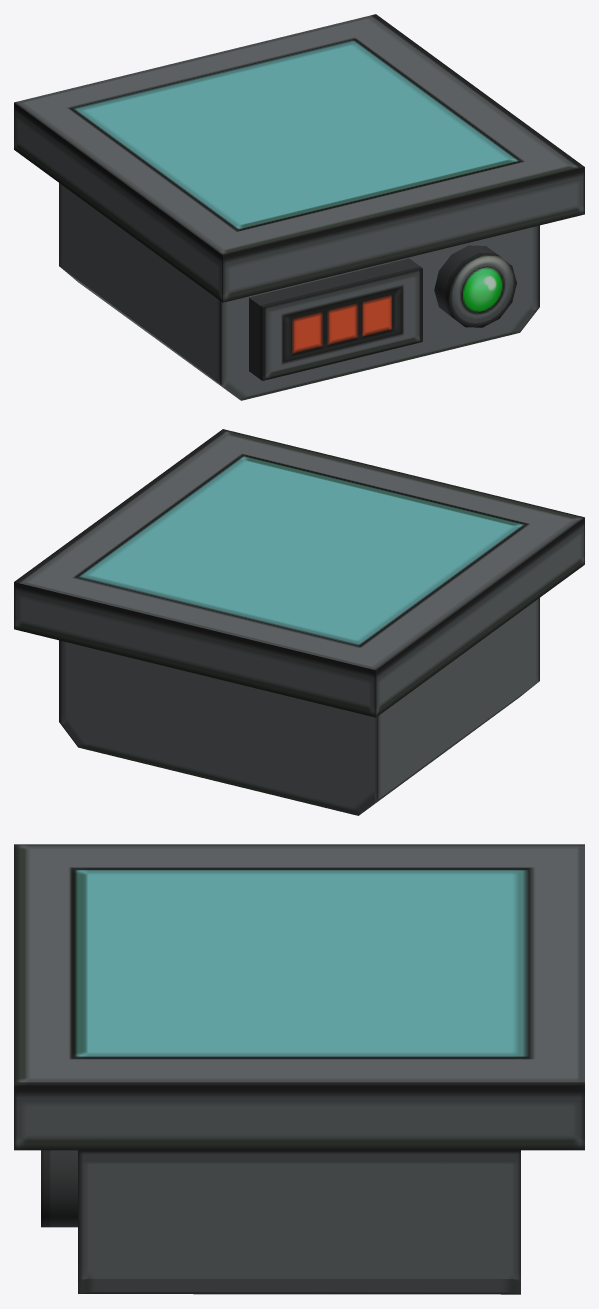
The model's file is Jump_Platform02.fbx.
3 views of the same model, one above another, from view 1: azimuth 30°, elevation 25°; view 2: azimuth 150°, elevation 25°; view 3: azimuth 270°, elevation 25° (orthographic). The views are drawn at different scales.
Parts seen in each view (by area): view 1: polySurface335; view 2: polySurface335; view 3: polySurface335.
Part boxes in pixels (left/top/right/bottom): polySurface335: left=14, top=14, right=584, bottom=400; polySurface335: left=14, top=429, right=584, bottom=815; polySurface335: left=14, top=844, right=584, bottom=1294.
Bounding box in the file's own units: 0.2981 × 0.1359 × 0.2981.
Materials: 1 (1 with a texture image).
